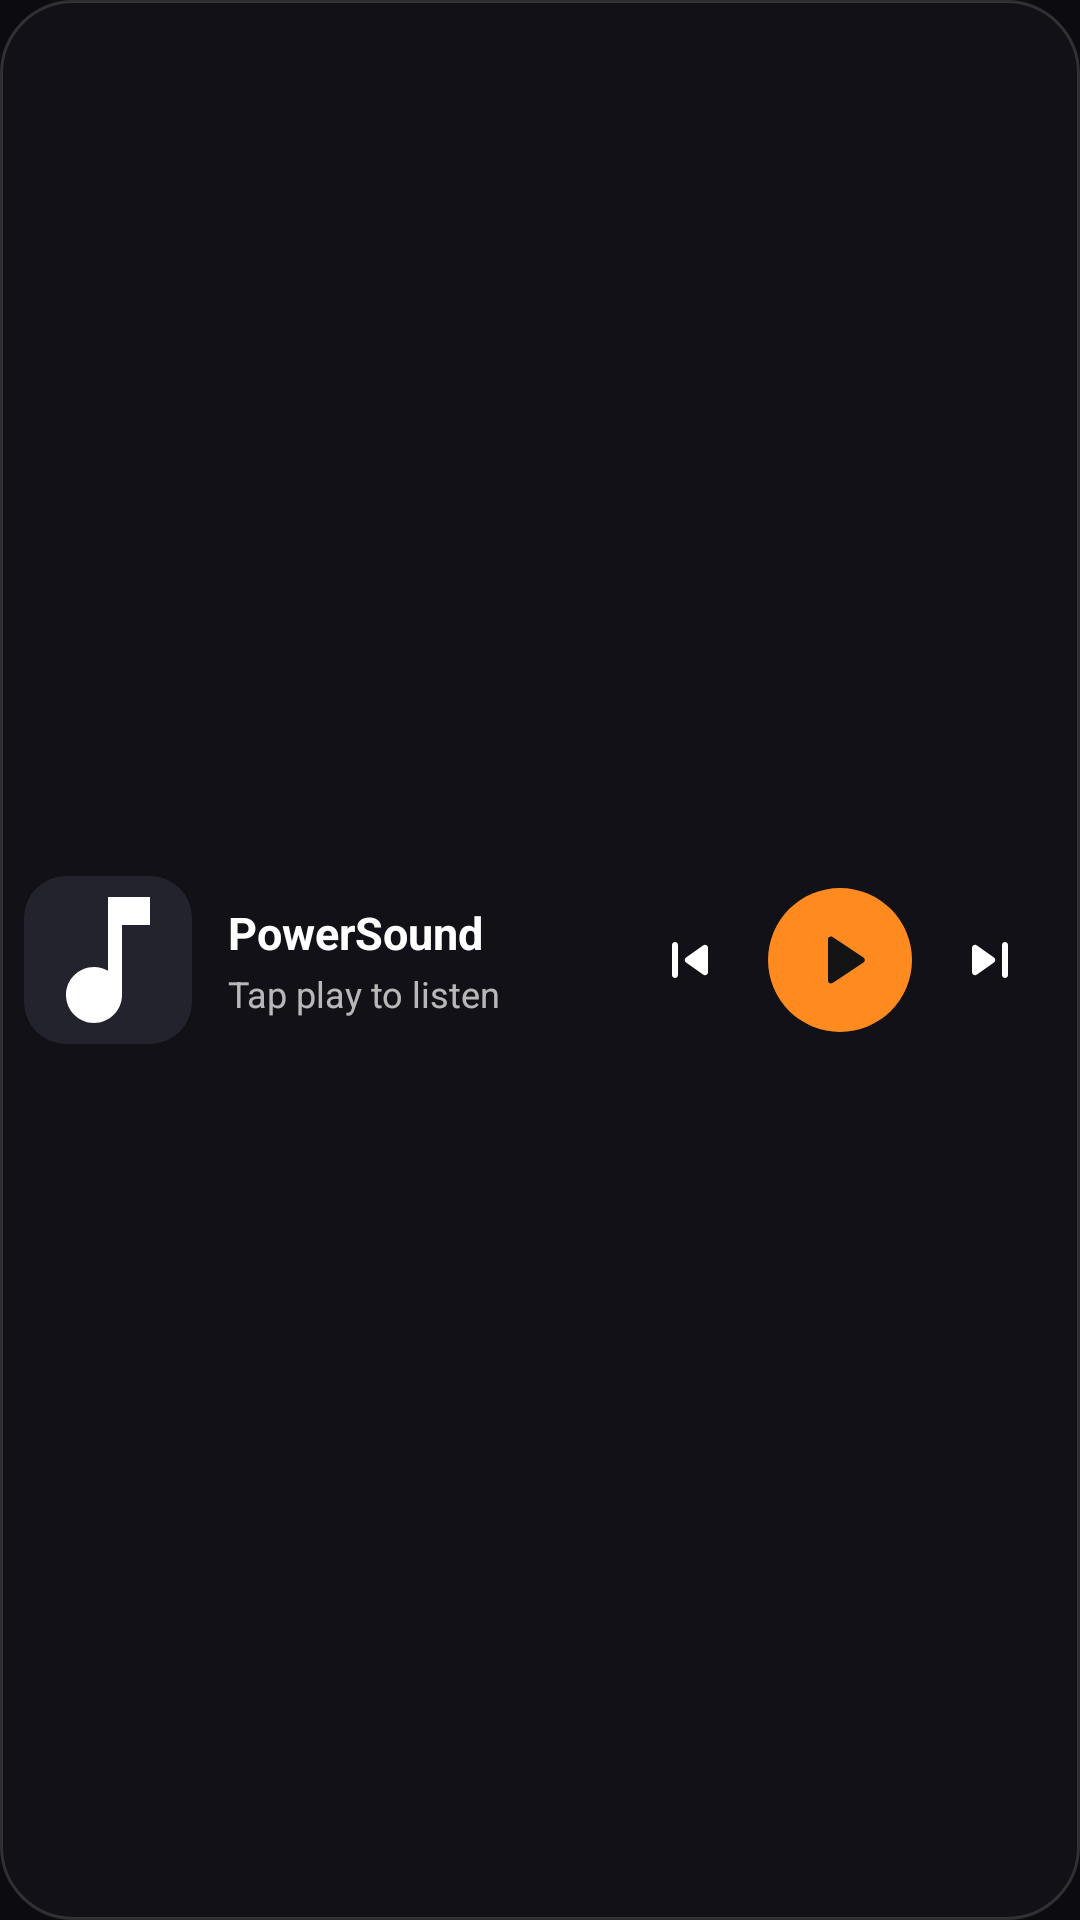

Where to tap for icons on this 1080w x 1920h app screen, as (x=x, y=y):
Cover: (x=108, y=960)
Next: (x=990, y=960)
Play or pause: (x=840, y=960)
Previous: (x=690, y=960)
